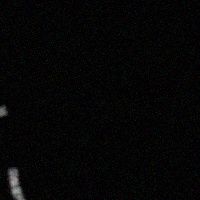chromosome: (9, 169, 32, 200), (0, 107, 6, 125)
